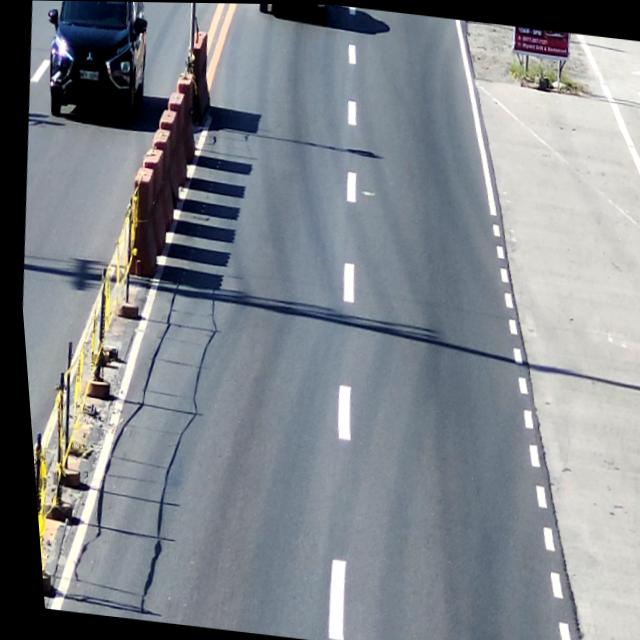Car: (39, 0, 156, 127)
License-Plate: (75, 66, 100, 86)
